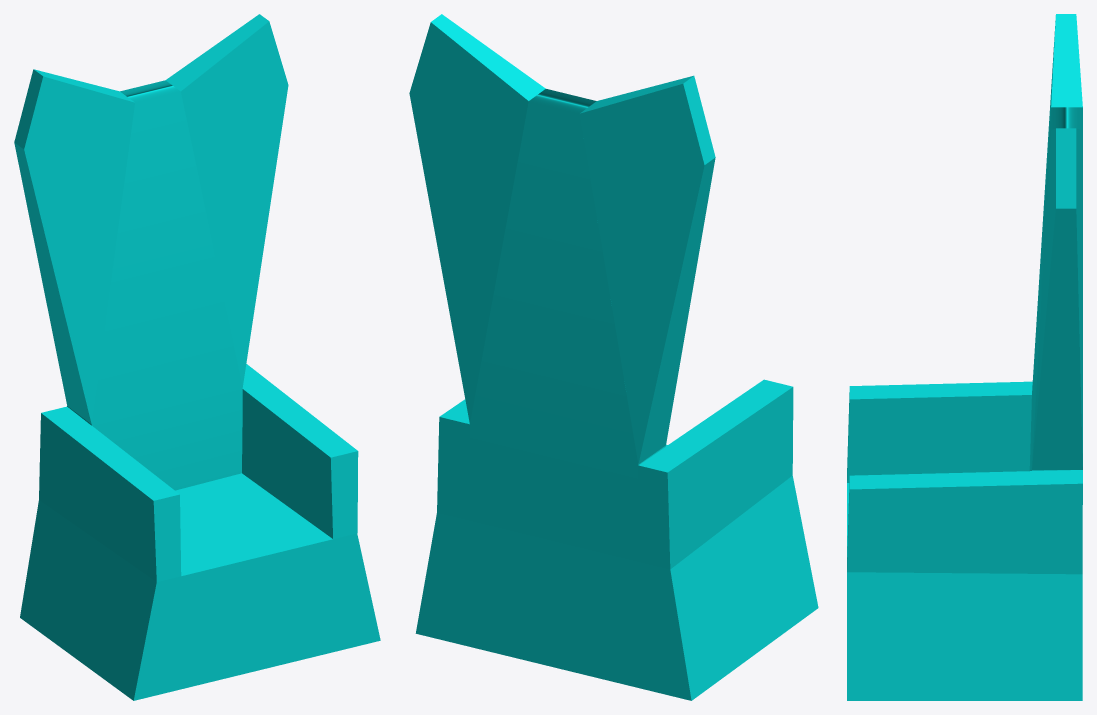
The model's file is SM_Prop_Chair_01_Collision.fbx.
3 renders of one model, left to right at view 1: azimuth 30°, elevation 25°; view 2: azimuth 150°, elevation 25°; view 3: azimuth 270°, elevation 25°, orthographic. The views are drawn at different scales.
Visible parts, largest first — view 1: SM_Prop_Chair_01_Collision; view 2: SM_Prop_Chair_01_Collision; view 3: SM_Prop_Chair_01_Collision.
Boxes of the visible parts, x1,y1,x2,y2 form: SM_Prop_Chair_01_Collision: [14, 14, 380, 700]; SM_Prop_Chair_01_Collision: [409, 14, 818, 700]; SM_Prop_Chair_01_Collision: [847, 14, 1082, 700].
Size of the model in its own units: 96.19 by 191 by 71.78.
